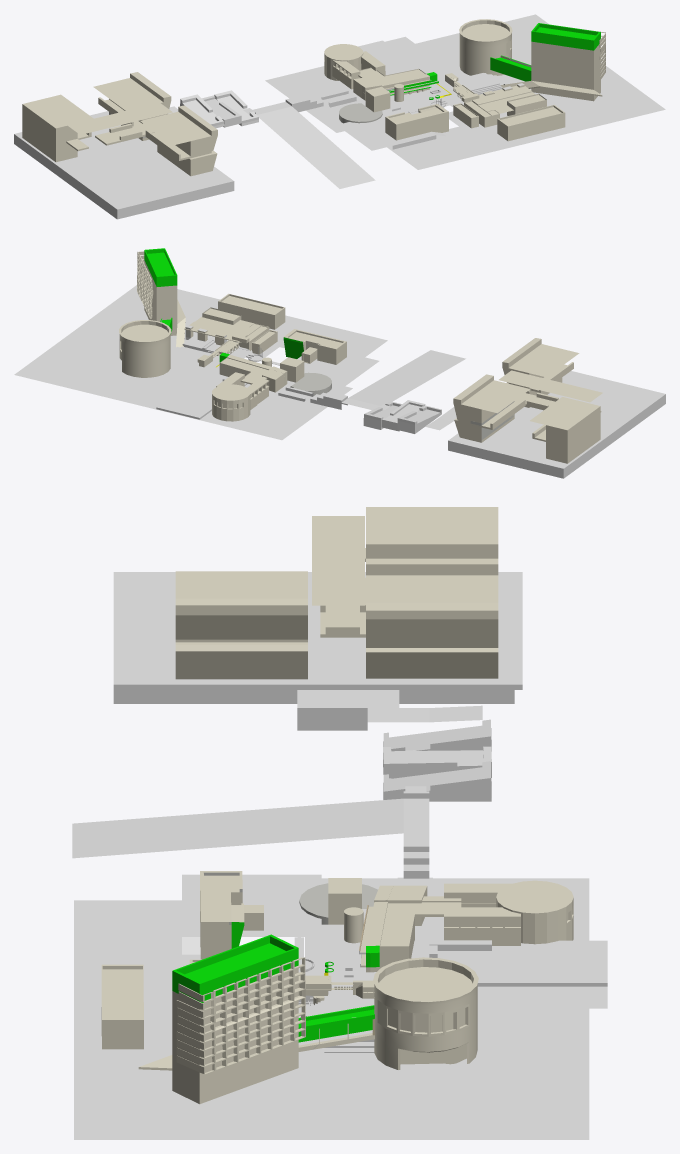
File: Mapa_UTB 1.fbx
3 renders of one model, top to bottom at view 1: azimuth 30°, elevation 25°; view 2: azimuth 150°, elevation 25°; view 3: azimuth 270°, elevation 25°, orthographic. The views are drawn at different scales.
Parts seen in each view (by area): view 1: pPlane1, pasted__pCube5 (×2), pasted__pCube6 (×2), pasted__pasted__pasted__pCube6 (×2), pasted__pasted__pCylinder4, pasted__pasted__pasted__pasted__pCube6, pasted__pasted__pasted__pasted__pasted__pasted__pasted__past (×2), pasted__pasted__pasted__pCube9, pCube9, pPlane2, pasted__pasted__pCube6, pasted__pasted__pasted__pasted__pCube9 (+13 smaller); view 2: pPlane1, pasted__pCube5 (×2), pasted__pCube6 (×3), pasted__pasted__pasted__pCube6 (×2), pasted__pasted__pCylinder4, pasted__pasted__pasted__pasted__pCube6, pasted__pasted__pasted__pCube9, pasted__pCylinder4, pPlane2, pCube9, pasted__pasted__pCube6, pasted__pasted__pasted__pasted__pasted__pasted__pasted__past (+9 smaller); view 3: pPlane1, pasted__pCube5 (×2), pasted__pCube6 (×3), pasted__pasted__pCylinder4, pasted__pasted__pasted__pCube6, pasted__pasted__pasted__pasted__pCube6, pPlane3, pasted__pasted__pasted__pasted__pasted__pasted__pasted__past (×2), pCube6, pPlane2, pasted__pCylinder4, pasted__pasted__pasted__pCube9 (+12 smaller).
Part boxes in pixels (x1=…): pPlane1: x1=243, y1=14, x2=665, y2=188; pasted__pCube5 (×2): x1=14, y1=94, x2=241, y2=219; pasted__pCube6 (×2): x1=140, y1=104, x2=448, y2=160; pasted__pasted__pasted__pCube6 (×2): x1=22, y1=72, x2=171, y2=162; pasted__pasted__pCylinder4: x1=459, y1=19, x2=512, y2=75; pasted__pasted__pasted__pasted__pCube6: x1=22, y1=94, x2=93, y2=151; pasted__pasted__pasted__pasted__pasted__pasted__pasted__past (×2): x1=531, y1=23, x2=600, y2=60; pasted__pasted__pasted__pCube9: x1=497, y1=105, x2=565, y2=141; pCube9: x1=464, y1=85, x2=535, y2=127; pPlane2: x1=67, y1=102, x2=172, y2=134; pasted__pasted__pCube6: x1=95, y1=97, x2=154, y2=145; pasted__pasted__pasted__pasted__pCube9: x1=501, y1=80, x2=602, y2=101; pPlane1: x1=14, y1=285, x2=465, y2=440; pasted__pCube5 (×2): x1=381, y1=371, x2=665, y2=478; pasted__pCube6 (×3): x1=283, y1=329, x2=579, y2=442; pasted__pasted__pasted__pCube6 (×2): x1=453, y1=374, x2=600, y2=463; pasted__pasted__pCylinder4: x1=119, y1=320, x2=171, y2=377; pasted__pasted__pasted__pasted__pCube6: x1=530, y1=397, x2=601, y2=446; pasted__pasted__pasted__pCube9: x1=218, y1=293, x2=285, y2=329; pasted__pCylinder4: x1=212, y1=384, x2=250, y2=421; pPlane2: x1=499, y1=370, x2=602, y2=402; pCube9: x1=184, y1=316, x2=269, y2=350; pasted__pasted__pCube6: x1=470, y1=393, x2=558, y2=429; pasted__pasted__pasted__pasted__pasted__pasted__pasted__past: x1=144, y1=248, x2=177, y2=286; pPlane1: x1=72, y1=786, x2=607, y2=1139; pasted__pCube5 (×2): x1=113, y1=572, x2=522, y2=778; pasted__pCube6 (×3): x1=175, y1=571, x2=498, y2=959; pasted__pasted__pCylinder4: x1=373, y1=957, x2=478, y2=1069; pasted__pasted__pasted__pCube6: x1=366, y1=575, x2=498, y2=647; pasted__pasted__pasted__pasted__pCube6: x1=365, y1=507, x2=498, y2=575; pPlane3: x1=176, y1=957, x2=305, y2=1074; pasted__pasted__pasted__pasted__pasted__pasted__pasted__past (×2): x1=172, y1=934, x2=298, y2=1021; pCube6: x1=175, y1=642, x2=307, y2=679; pPlane2: x1=312, y1=516, x2=364, y2=605; pasted__pCylinder4: x1=496, y1=880, x2=573, y2=944; pasted__pasted__pasted__pCube9: x1=101, y1=964, x2=143, y2=1049.
Size of the model in its own units: 2896 by 349 by 1259.
